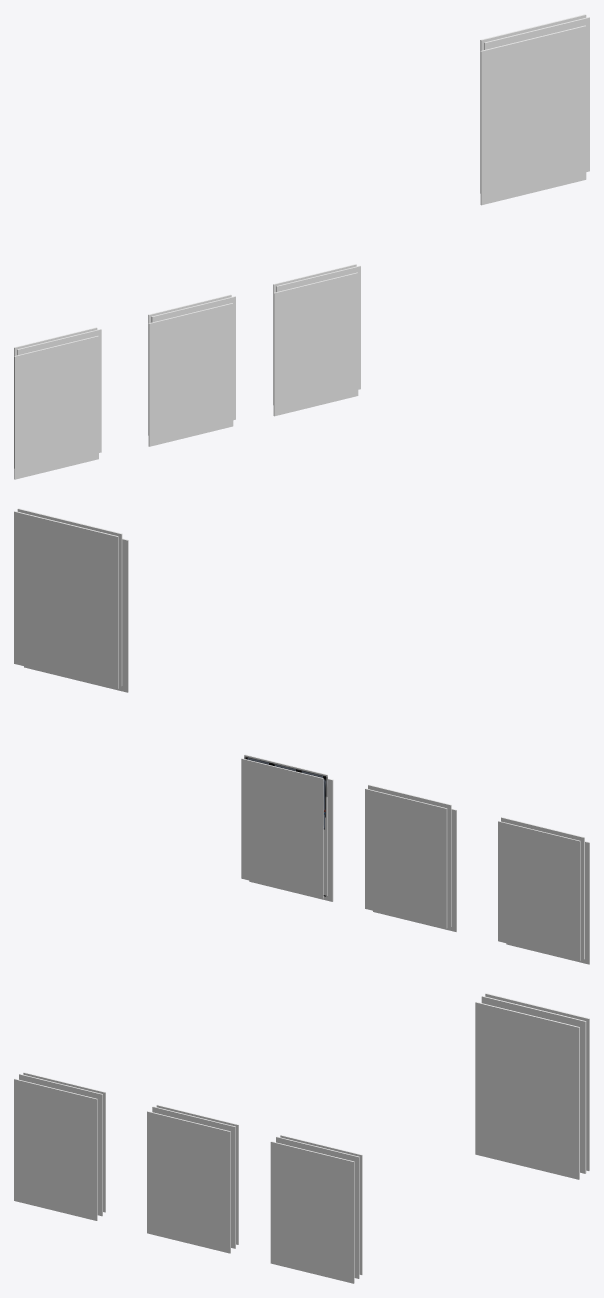
File: SelectLevel.glb
The picture shows the model from 3 angles, top to bottom: view 1: azimuth 30°, elevation 25°; view 2: azimuth 150°, elevation 25°; view 3: azimuth 330°, elevation 25°; orthographic projection.
Parts seen in each view (by area): view 1: btn_pack_shadow_01, btn_pack_shadow_03, btn_pack_shadow_02, btn_pack_shadow_04, btn_pack_obj_01, btn_pack_obj_02, btn_pack_obj_03, btn_pack_obj_04, btn_pack_blink; view 2: btn_pack_blink (×4), btn_pack_shadow_01, btn_pack_obj_01, btn_pack_obj_04, btn_pack_obj_02, btn_pack_obj_03, btn_pack_shadow_02, btn_pack_shadow_03, btn_pack_shadow_04; view 3: btn_pack_shadow_01, btn_pack_shadow_02, btn_pack_shadow_03, btn_pack_shadow_04, btn_pack_blink (×4), btn_pack_obj_01, btn_pack_obj_02, btn_pack_obj_04, btn_pack_obj_03.
Boxes of the visible parts, bbox=[...] form: btn_pack_shadow_01: bbox=[480, 25, 586, 205]; btn_pack_shadow_03: bbox=[148, 303, 233, 446]; btn_pack_shadow_02: bbox=[273, 272, 358, 416]; btn_pack_shadow_04: bbox=[14, 336, 98, 479]; btn_pack_obj_01: bbox=[484, 17, 589, 171]; btn_pack_obj_02: bbox=[276, 265, 360, 389]; btn_pack_obj_03: bbox=[151, 296, 235, 420]; btn_pack_obj_04: bbox=[17, 329, 101, 452]; btn_pack_blink: bbox=[480, 14, 586, 193]; btn_pack_blink (×4): bbox=[14, 511, 580, 960]; btn_pack_shadow_01: bbox=[24, 538, 128, 692]; btn_pack_obj_01: bbox=[17, 508, 122, 686]; btn_pack_obj_04: bbox=[501, 817, 584, 959]; btn_pack_obj_02: bbox=[244, 754, 327, 896]; btn_pack_obj_03: bbox=[368, 784, 451, 926]; btn_pack_shadow_02: bbox=[249, 778, 333, 901]; btn_pack_shadow_03: bbox=[373, 809, 456, 931]; btn_pack_shadow_04: bbox=[506, 841, 589, 964]; btn_pack_shadow_01: bbox=[475, 1002, 579, 1179]; btn_pack_shadow_02: bbox=[270, 1141, 354, 1283]; btn_pack_shadow_03: bbox=[147, 1111, 230, 1253]; btn_pack_shadow_04: bbox=[14, 1078, 97, 1220]; btn_pack_blink (×4): bbox=[23, 993, 589, 1274]; btn_pack_obj_01: bbox=[481, 996, 586, 1173]; btn_pack_obj_02: bbox=[276, 1136, 359, 1278]; btn_pack_obj_04: bbox=[19, 1074, 102, 1216]; btn_pack_obj_03: bbox=[152, 1106, 235, 1248].
Size of the model in its own units: 19494 by 10368 by 349.
Materials: 11 (5 with a texture image).
